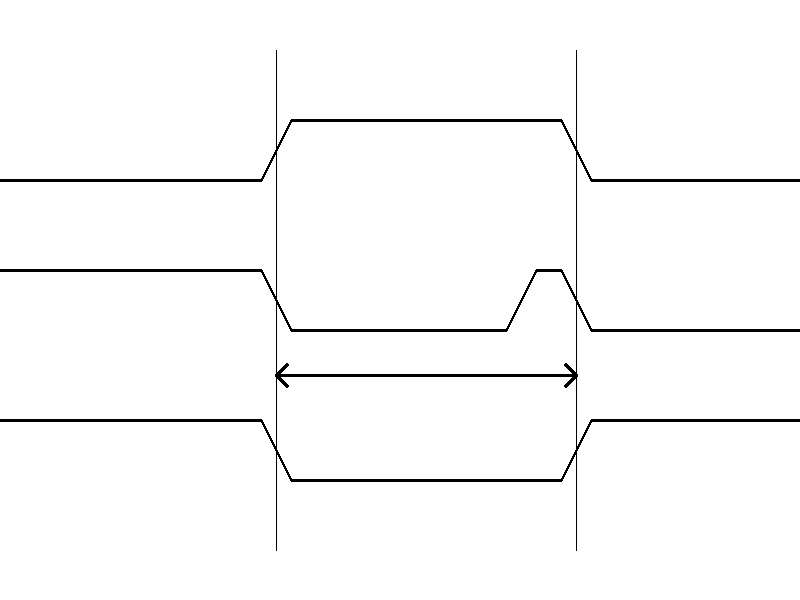double_arrow: (276, 360, 576, 390)
